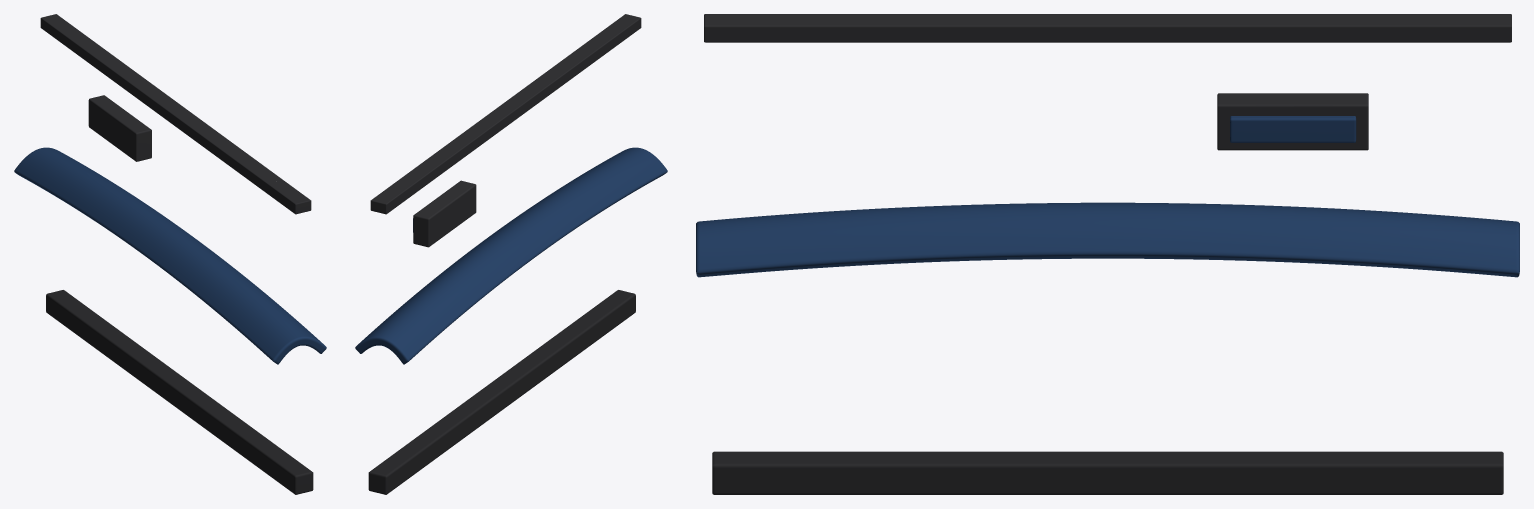
The model's file is front_left_door.glb.
3 renders of one model, left to right at view 1: azimuth 30°, elevation 25°; view 2: azimuth 150°, elevation 25°; view 3: azimuth 270°, elevation 25°, orthographic. The views are drawn at different scales.
Visible parts, largest first — view 1: DOOR_OUTER_SKIN_front_left_door.glb, DOOR_LOWER_BLADE_front_left_door.glb, DOOR_WAIST_SEAL_front_left_door.glb, HANDLE_CUP_front_left_door.glb; view 2: DOOR_OUTER_SKIN_front_left_door.glb, DOOR_LOWER_BLADE_front_left_door.glb, DOOR_WAIST_SEAL_front_left_door.glb, HANDLE_CUP_front_left_door.glb; view 3: DOOR_OUTER_SKIN_front_left_door.glb, DOOR_LOWER_BLADE_front_left_door.glb, DOOR_WAIST_SEAL_front_left_door.glb, HANDLE_CUP_front_left_door.glb, HANDLE_LEVER_front_left_door.glb.
Part boxes in pixels (x1,y1,x2,y2): DOOR_OUTER_SKIN_front_left_door.glb: [14, 147, 326, 364]; DOOR_LOWER_BLADE_front_left_door.glb: [46, 290, 313, 494]; DOOR_WAIST_SEAL_front_left_door.glb: [40, 14, 311, 214]; HANDLE_CUP_front_left_door.glb: [88, 95, 151, 161]; DOOR_OUTER_SKIN_front_left_door.glb: [355, 147, 667, 364]; DOOR_LOWER_BLADE_front_left_door.glb: [368, 290, 635, 494]; DOOR_WAIST_SEAL_front_left_door.glb: [370, 14, 641, 214]; HANDLE_CUP_front_left_door.glb: [413, 180, 476, 247]; DOOR_OUTER_SKIN_front_left_door.glb: [696, 202, 1519, 277]; DOOR_LOWER_BLADE_front_left_door.glb: [712, 451, 1503, 494]; DOOR_WAIST_SEAL_front_left_door.glb: [704, 14, 1511, 42]; HANDLE_CUP_front_left_door.glb: [1217, 93, 1368, 150]; HANDLE_LEVER_front_left_door.glb: [1230, 116, 1356, 142].
Size of the model in its own units: 0.1169 by 0.611 by 0.9794.
